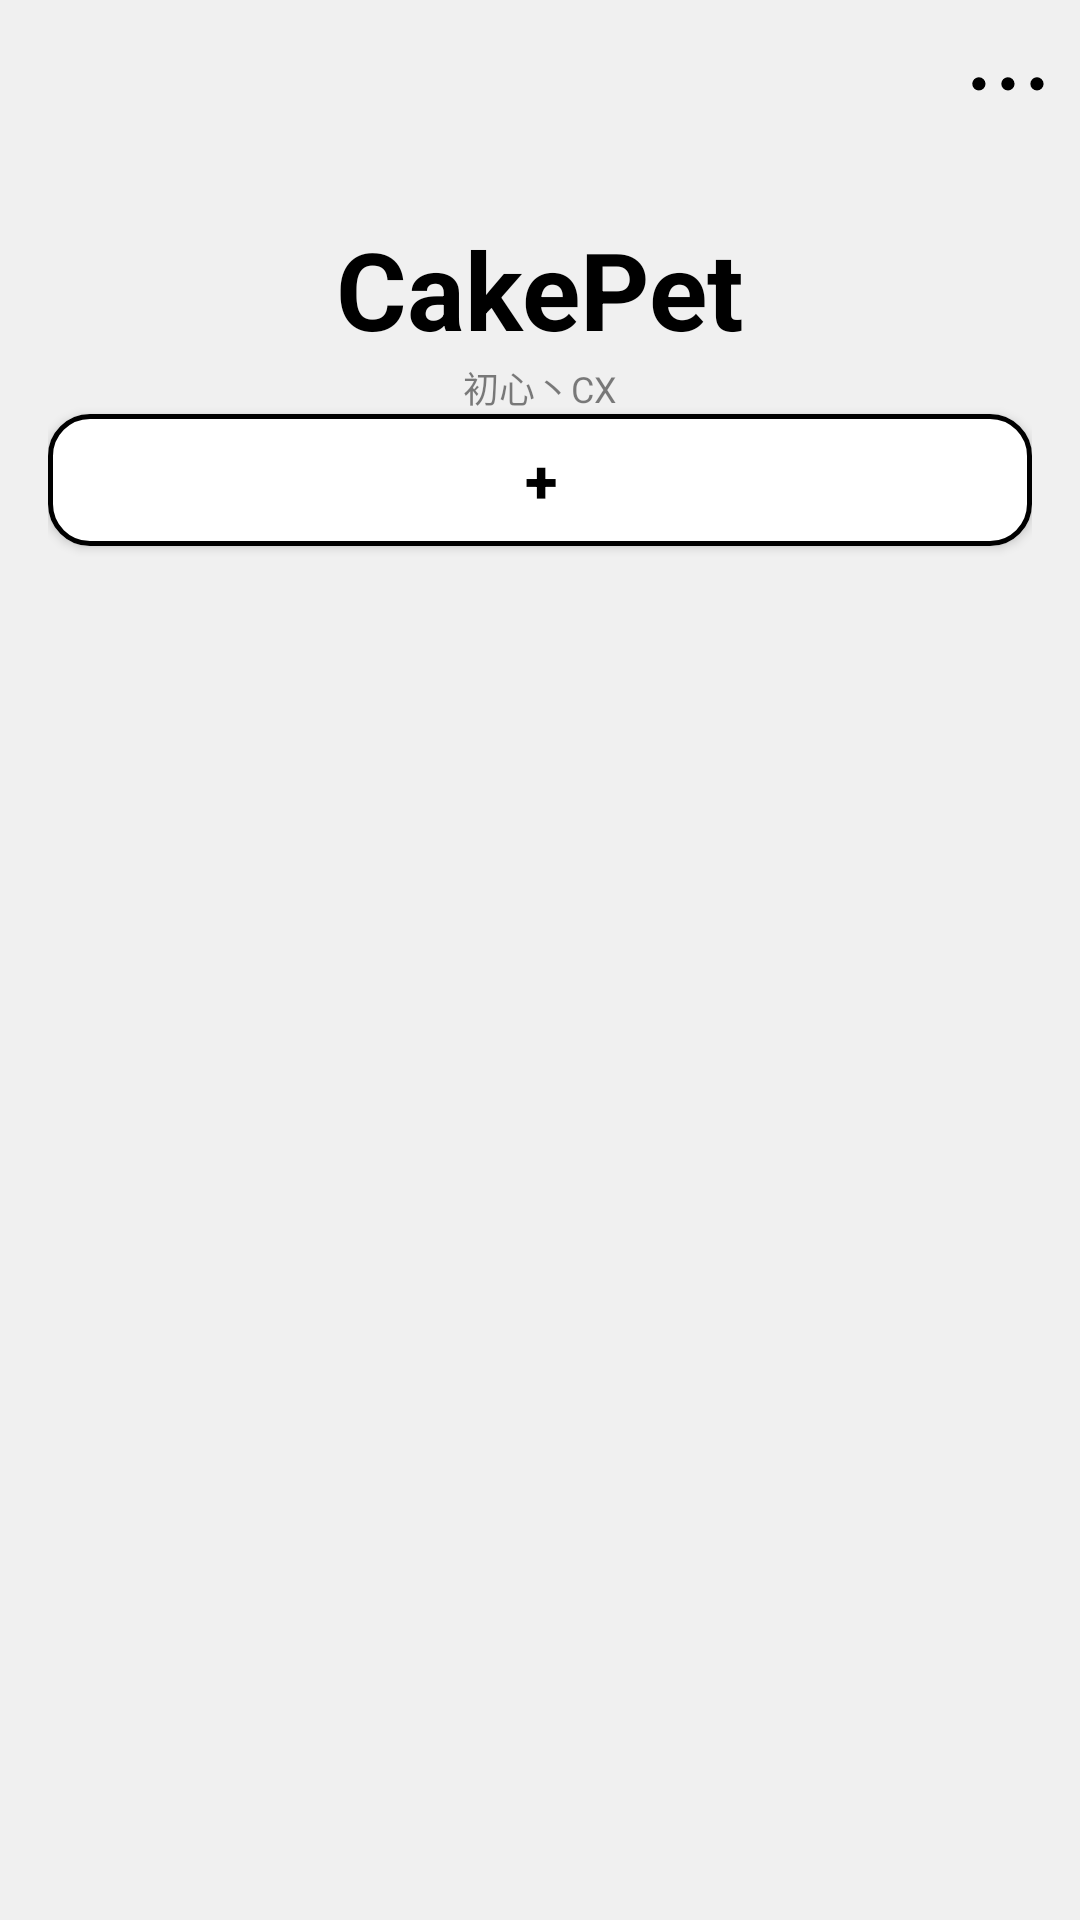

Locate icon controls on the screen. Image size 1080 × 1920, boxes as bbox=[x1, y1, x2, y2].
更多: bbox=[972, 77, 1044, 91]
